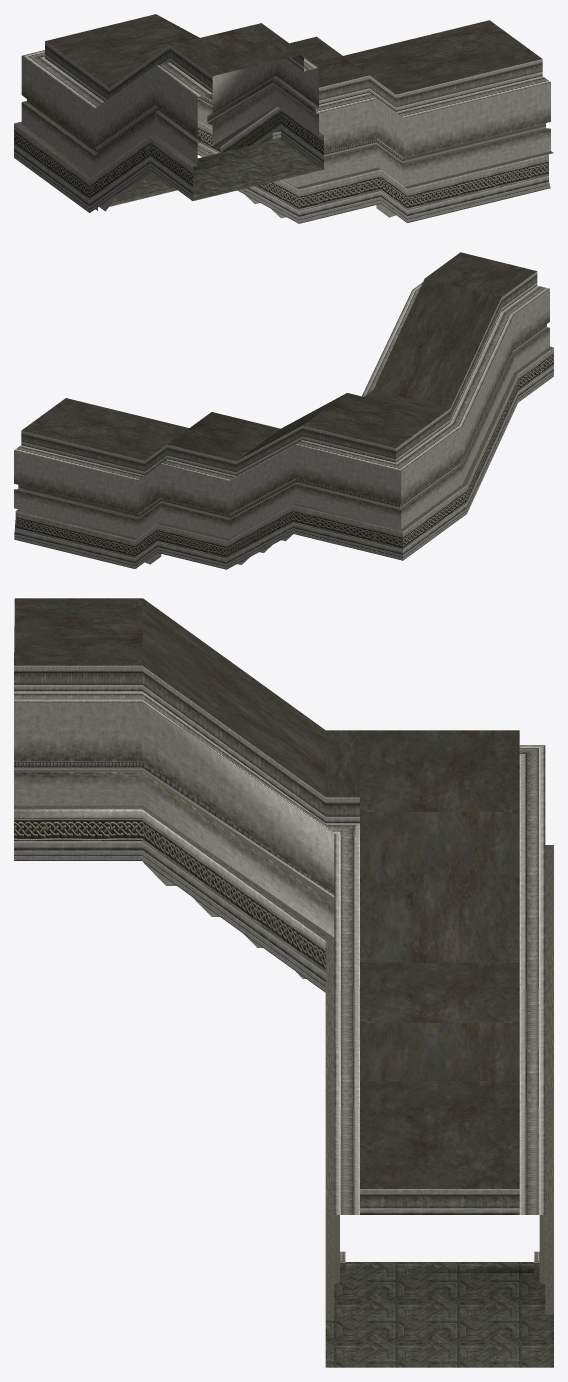
The model's file is DWARF_PALACE_EREBOR_ROOMB.fbx.
3 views of the same model, one above another, from view 1: azimuth 30°, elevation 25°; view 2: azimuth 150°, elevation 25°; view 3: azimuth 270°, elevation 25° (orthographic). The views are drawn at different scales.
Visible parts, largest first — view 1: DWARF_PALACE_EREBOR_ROOMB; view 2: DWARF_PALACE_EREBOR_ROOMB; view 3: DWARF_PALACE_EREBOR_ROOMB.
Boxes of the visible parts, bbox=[...] form: DWARF_PALACE_EREBOR_ROOMB: bbox=[14, 14, 553, 223]; DWARF_PALACE_EREBOR_ROOMB: bbox=[14, 252, 553, 569]; DWARF_PALACE_EREBOR_ROOMB: bbox=[14, 598, 553, 1367].
Bounding box in the file's own units: 283220 × 172001 × 189322.
Materials: 9 (9 with a texture image).
